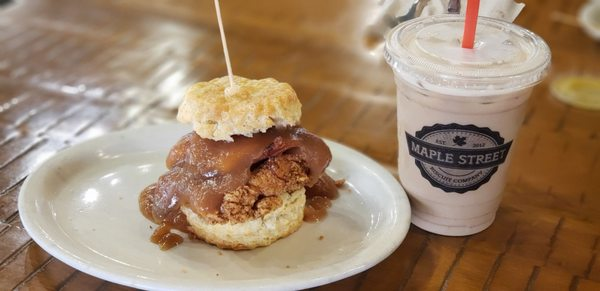pizza: (383, 13, 553, 237)
soup: (139, 75, 337, 252)
